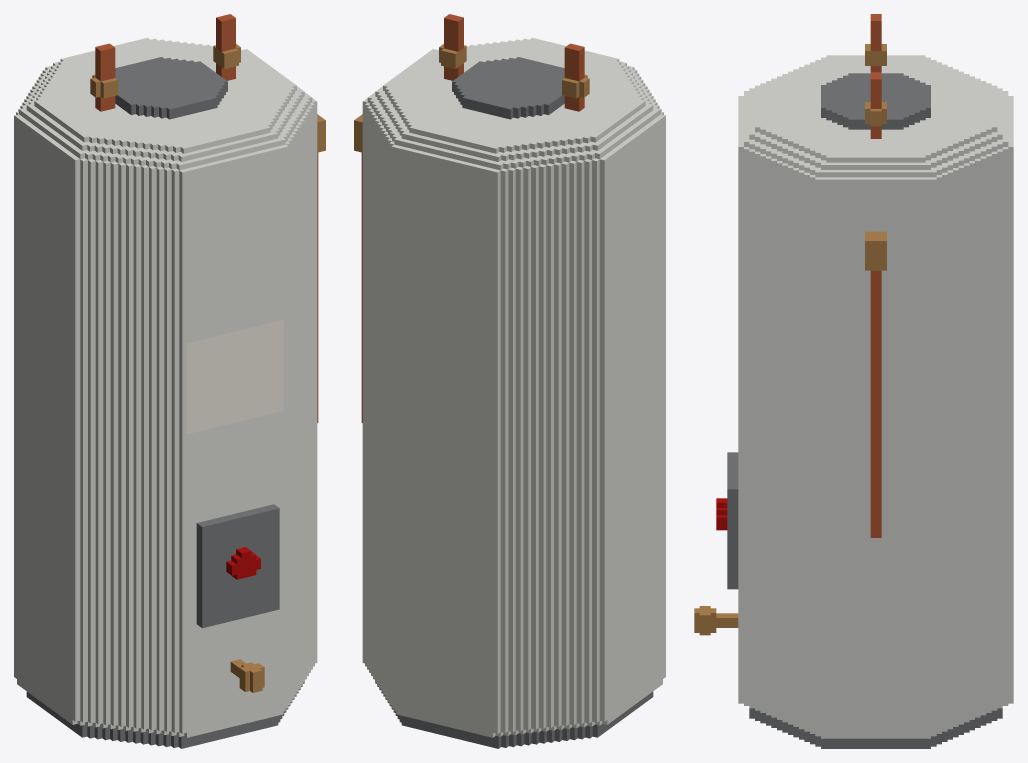
File: household_water_heater.glb
3 views of the same model, side by side, from view 1: azimuth 30°, elevation 25°; view 2: azimuth 150°, elevation 25°; view 3: azimuth 270°, elevation 25° (orthographic).
Parts seen in each view (by area): view 1: household_water_heater:compound; view 2: household_water_heater:compound; view 3: household_water_heater:compound.
Part boxes in pixels (bbox=[...]): household_water_heater:compound: bbox=[14, 14, 325, 748]; household_water_heater:compound: bbox=[354, 14, 665, 748]; household_water_heater:compound: bbox=[694, 14, 1013, 748].
Size of the model in its own units: 0.57 by 1.3 by 0.58.
